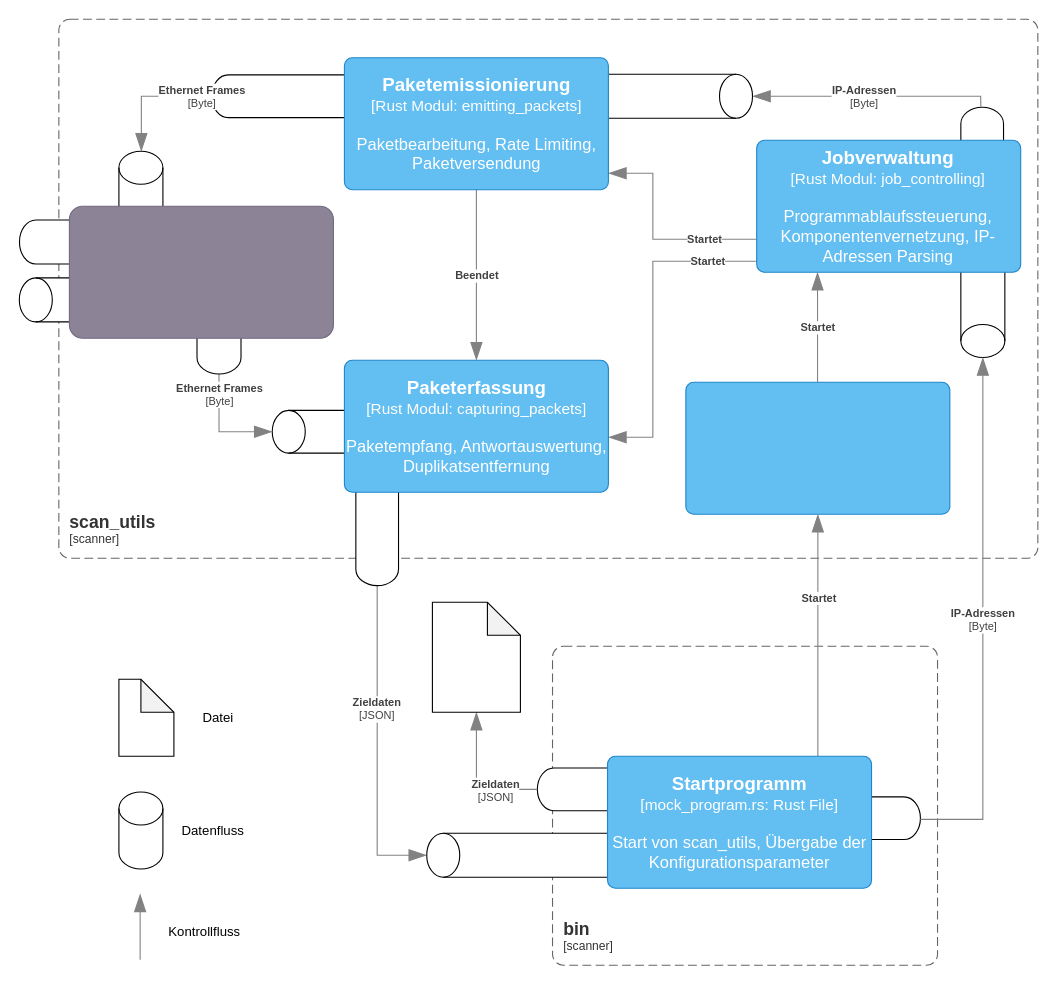
This 1057x998 diagram has some shape labels left out. Each missing label, with the centre of its shape:
Einstiegspunkt [Rust File: main.rs] Vorbereitung, Scanstart: [817,447]
Netzwerkinterface [Hardware / Kernel Treiber] Physische Netzwerkschnittstelle: [200,271]
